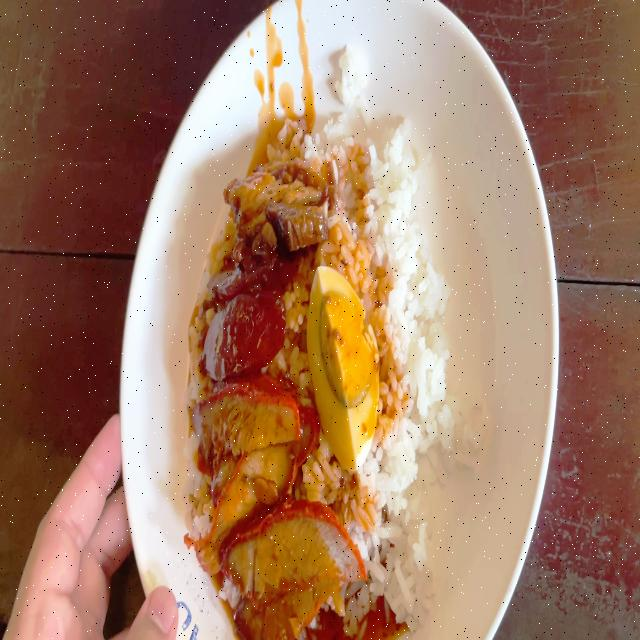boiled_egg: (313, 267, 379, 471)
chainese_sausage: (199, 264, 294, 364)
crispy_pork: (228, 161, 338, 241)
red_pork: (193, 384, 329, 630)
red_pork_and_crispy_pork: (191, 120, 451, 635)
rice: (379, 270, 448, 510), (337, 126, 426, 267), (380, 514, 437, 608)
